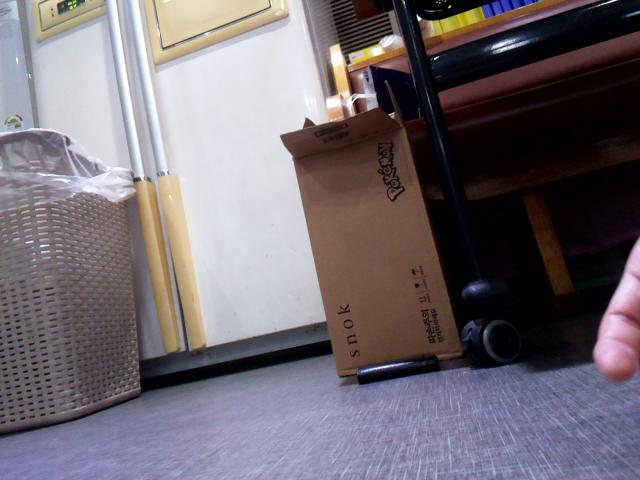wallet: (351, 348, 447, 388)
